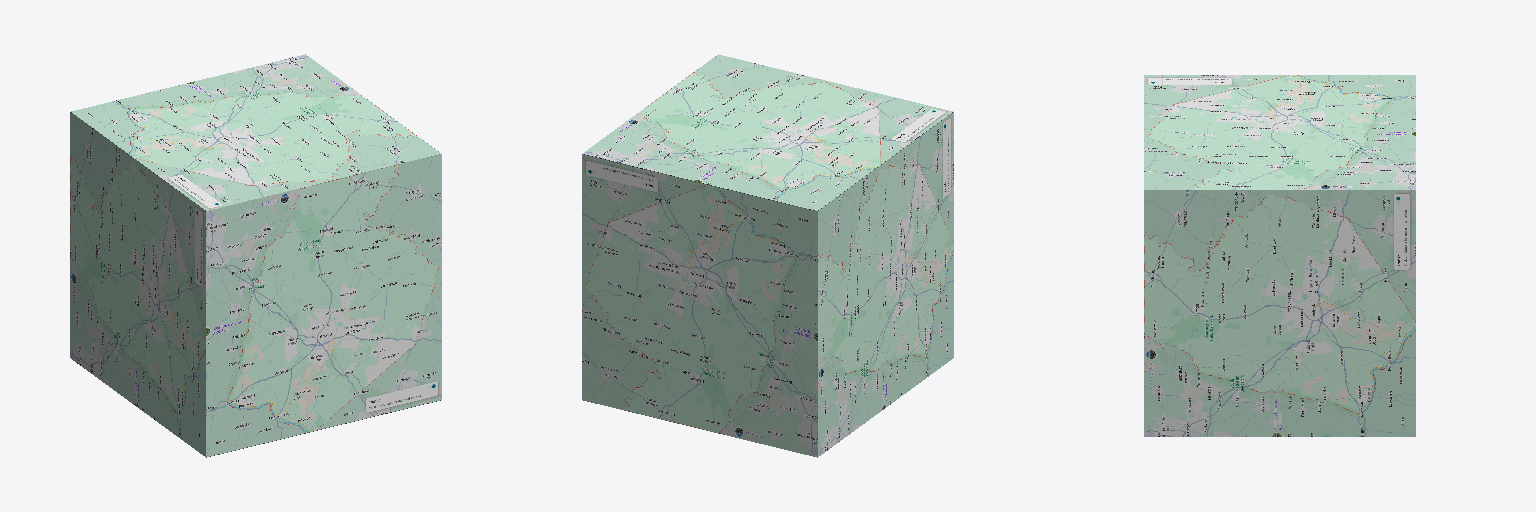
3 views of the same model, side by side, from view 1: azimuth 30°, elevation 25°; view 2: azimuth 150°, elevation 25°; view 3: azimuth 270°, elevation 25° (orthographic).
Parts seen in each view (by area): view 1: Cube; view 2: Cube; view 3: Cube.
Part boxes in pixels (bbox=[...]): Cube: bbox=[70, 54, 441, 457]; Cube: bbox=[582, 54, 953, 457]; Cube: bbox=[1144, 75, 1415, 436].
Bounding box in the file's own units: 2 × 2 × 2.
Materials: 1 (1 with a texture image).